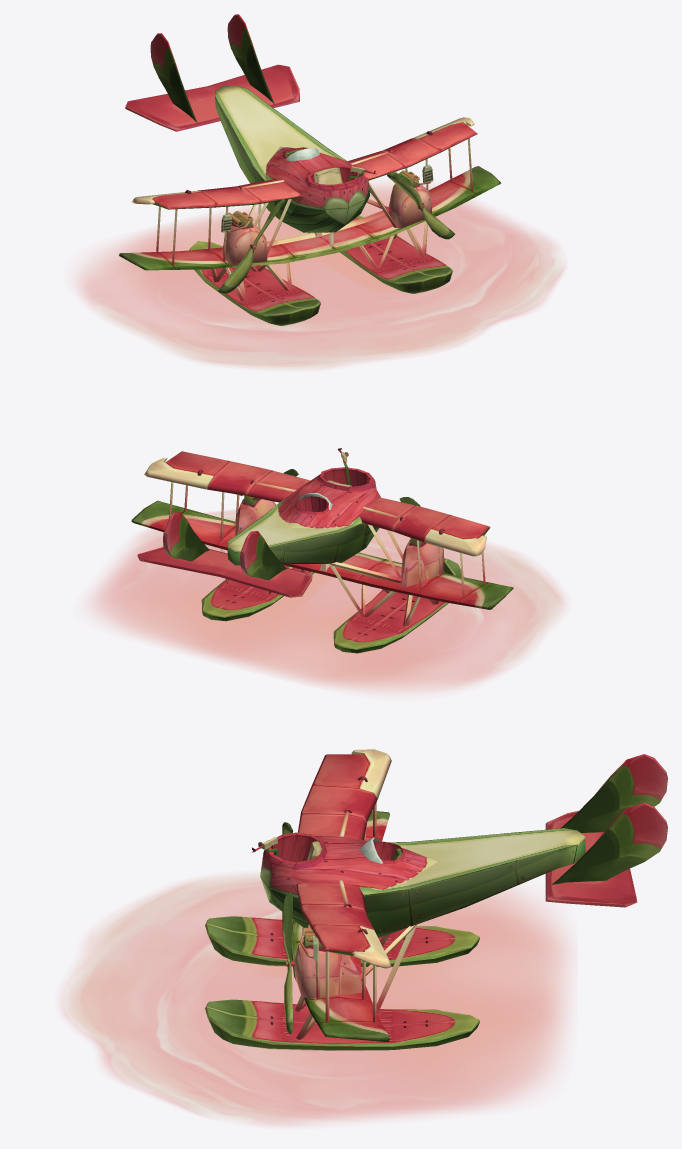
The picture shows the model from 3 angles, top to bottom: view 1: azimuth 30°, elevation 25°; view 2: azimuth 150°, elevation 25°; view 3: azimuth 270°, elevation 25°; orthographic projection. The views are drawn at different scales.
Visible parts, largest first — view 1: Box005, Plane; view 2: Box005, Plane; view 3: Plane, Box005.
Part boxes in pixels (x1,y1,x2,y2): Box005: [119, 14, 501, 325]; Plane: [74, 182, 565, 369]; Box005: [131, 448, 513, 653]; Plane: [86, 509, 566, 694]; Plane: [60, 872, 573, 1127]; Box005: [205, 749, 667, 1050].
Bounding box in the file's own units: 2683 × 1017 × 2693.
Materials: 2 (2 with a texture image).
